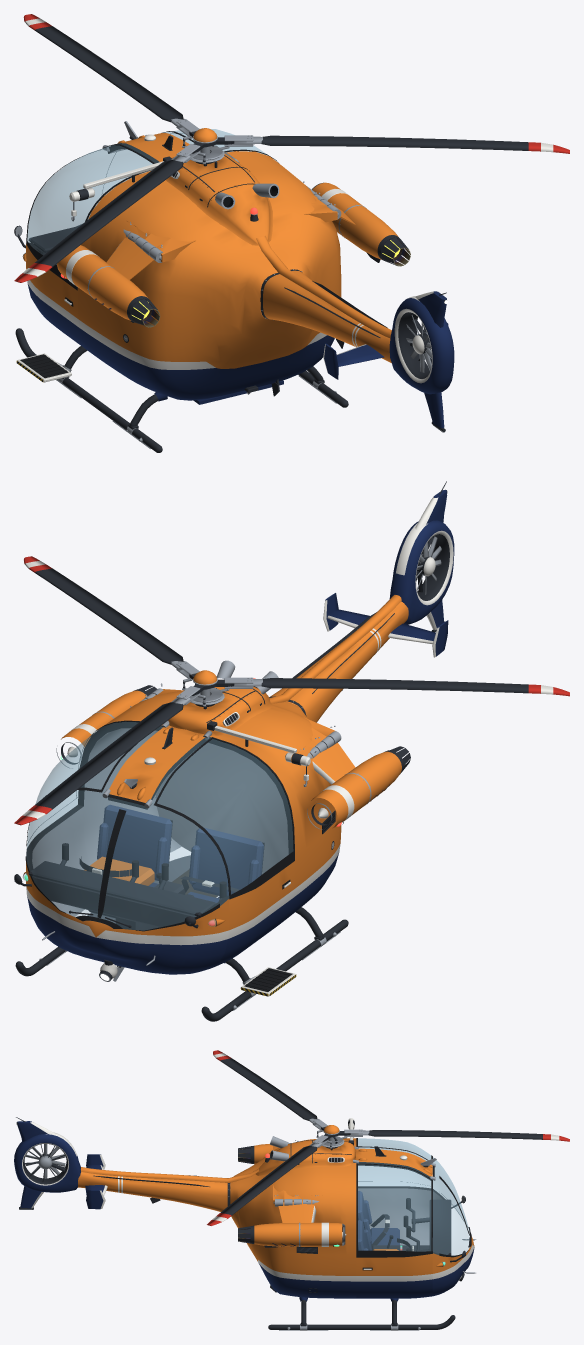
The model's file is helicopter_boarding.glb.
3 renders of one model, top to bottom at view 1: azimuth 30°, elevation 25°; view 2: azimuth 150°, elevation 25°; view 3: azimuth 270°, elevation 25°, orthographic. The views are drawn at different scales.
Parts seen in each view (by area): view 1: Body, MainRotorBlades, Door_L, Windows, JetPod_L, JetPod_R, FrameAndSkids, MainRotor, Step_L, Interior, JetNozzle_R, JetNozzle_L; view 2: Body, Windows, Door_L, Interior, MainRotorBlades, Door_R, JetPod_L, Seat_L, Seat_R, FrameAndSkids, MainRotor, JetPod_R (+2 smaller); view 3: Body, Door_R, Door_L, MainRotorBlades, JetPod_R, Windows, FrameAndSkids, Interior, MainRotor, Seat_L, TailRotor.
Part boxes in pixels (box(x1,y1,x2,y2)): Body: box(14, 121, 454, 432); MainRotorBlades: box(14, 14, 569, 282); Door_L: box(26, 143, 158, 355); Windows: box(25, 135, 193, 252); JetPod_L: box(56, 229, 162, 323); JetPod_R: box(307, 182, 403, 262); FrameAndSkids: box(15, 328, 348, 452); MainRotor: box(171, 118, 262, 164); Step_L: box(16, 353, 71, 382); Interior: box(28, 225, 80, 264); JetNozzle_R: box(381, 237, 410, 266); JetNozzle_L: box(130, 298, 160, 327); Body: box(14, 481, 454, 981); Windows: box(23, 790, 228, 930); Door_L: box(151, 737, 294, 967); Interior: box(28, 730, 288, 930); MainRotorBlades: box(14, 556, 569, 825); Door_R: box(26, 720, 162, 910); JetPod_L: box(307, 731, 403, 829); Seat_L: box(188, 827, 264, 902); Seat_R: box(88, 804, 172, 918); FrameAndSkids: box(15, 907, 348, 1021); MainRotor: box(171, 661, 262, 706); JetPod_R: box(56, 688, 163, 768); Body: box(14, 1117, 476, 1298); Door_R: box(356, 1162, 432, 1297); Door_L: box(356, 1138, 432, 1240); MainRotorBlades: box(207, 1050, 569, 1225); JetPod_R: box(250, 1199, 346, 1247); Windows: box(432, 1157, 469, 1266); FrameAndSkids: box(268, 1297, 455, 1330); Interior: box(371, 1199, 451, 1255); MainRotor: box(309, 1118, 369, 1148); Seat_L: box(358, 1191, 399, 1245); TailRotor: box(25, 1144, 65, 1178).
Size of the model in its own units: 9.24 by 4.5 by 12.36.
